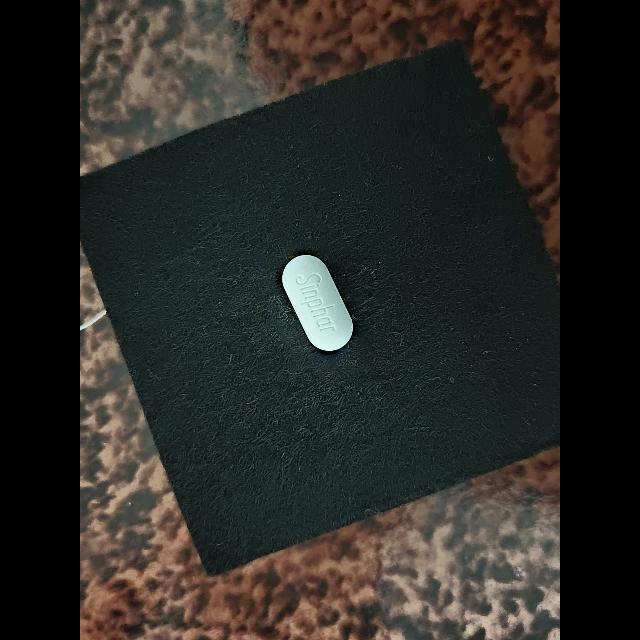Intact Pill: (282, 255, 353, 351)
